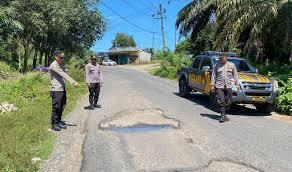Pothole: (87, 106, 183, 143), (182, 158, 269, 172)
